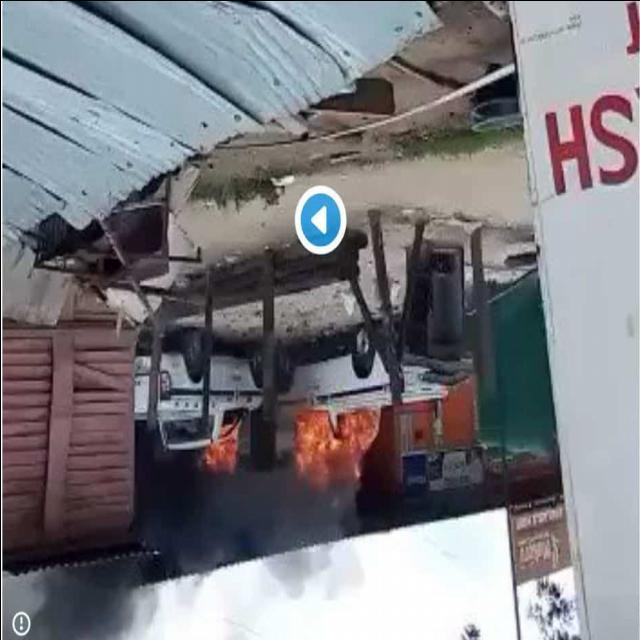Fire: (176, 399, 402, 541)
